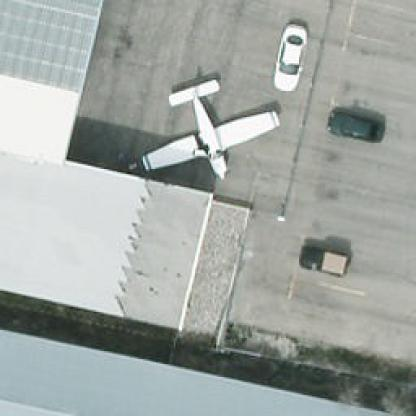car: (322, 112, 392, 148), (274, 20, 306, 95), (300, 244, 352, 278)
plane: (117, 65, 293, 200)
